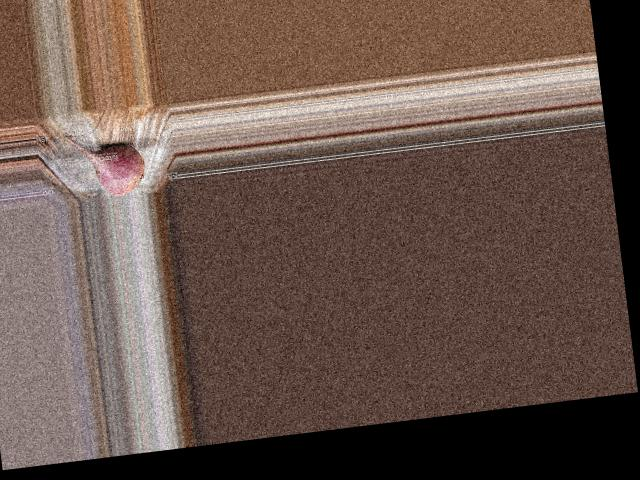beet: (64, 127, 147, 201)
